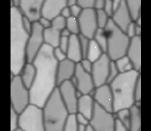good_void: (25, 3, 39, 19), (98, 27, 115, 39), (44, 118, 56, 126), (113, 87, 122, 95)
